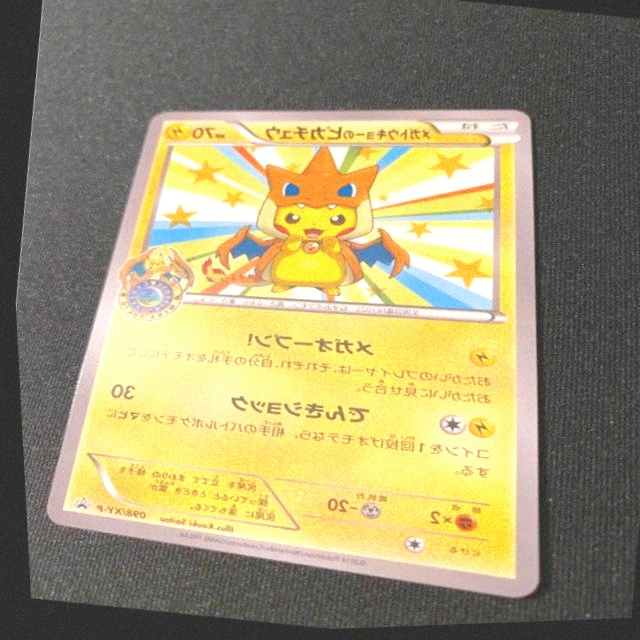card: (38, 110, 534, 601)
